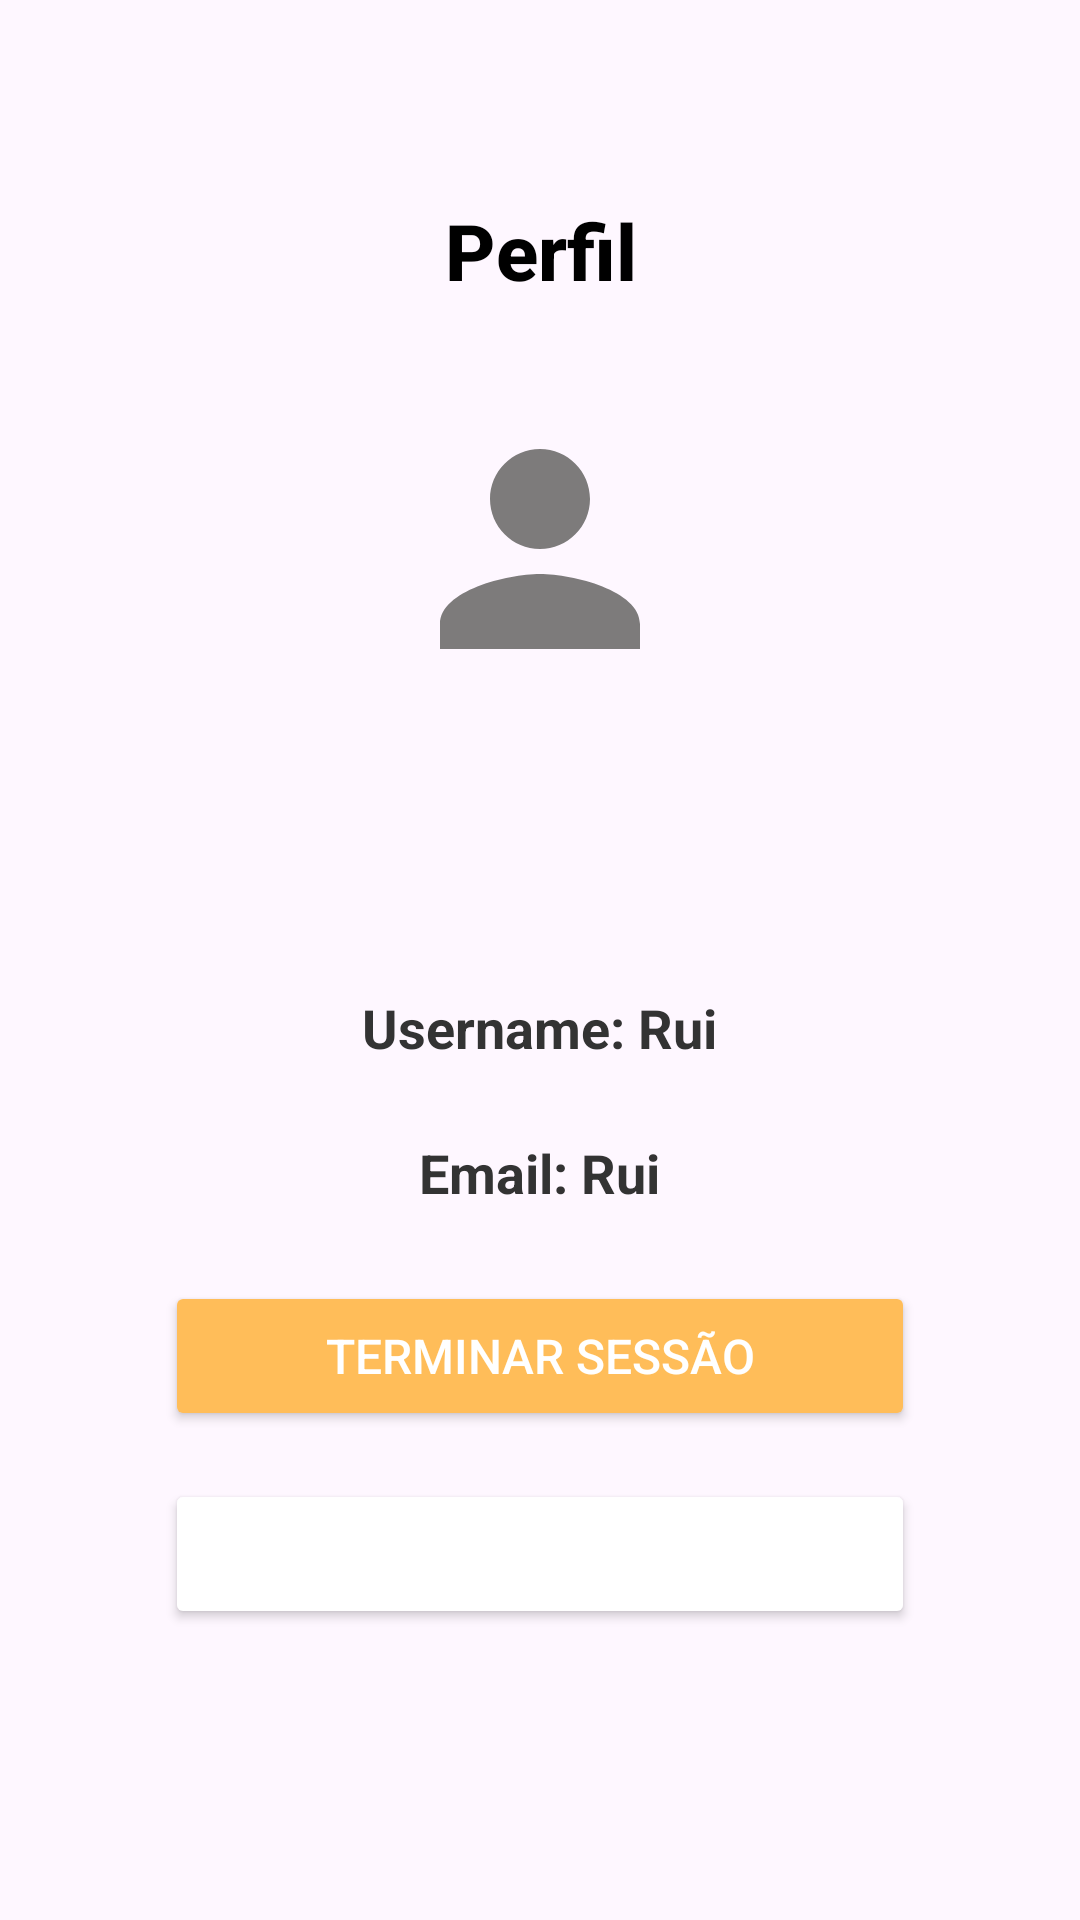

Screen size 1080×1920. Icon name, then its center in pixels as (x,y):
person: (540,549)
